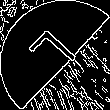L_SE: (25, 27, 85, 83)
